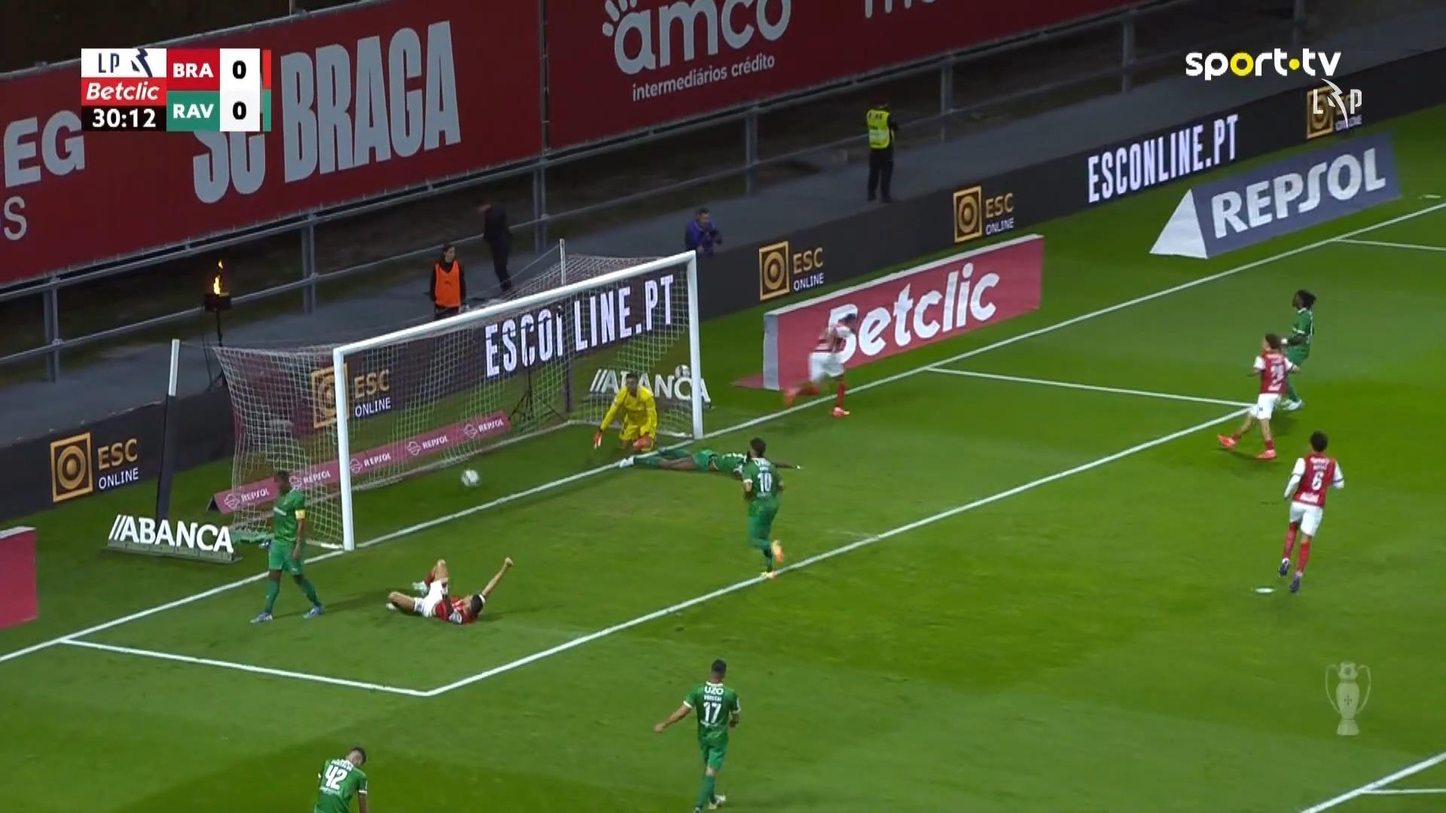ball: (460, 468, 479, 487)
goalkeeper: (592, 370, 658, 467)
player: (653, 658, 740, 811), (249, 468, 325, 624), (1277, 430, 1344, 593), (1216, 332, 1301, 460), (386, 555, 514, 626), (781, 310, 859, 417), (618, 437, 801, 480), (737, 437, 786, 580), (1277, 288, 1316, 411), (312, 745, 368, 811)
